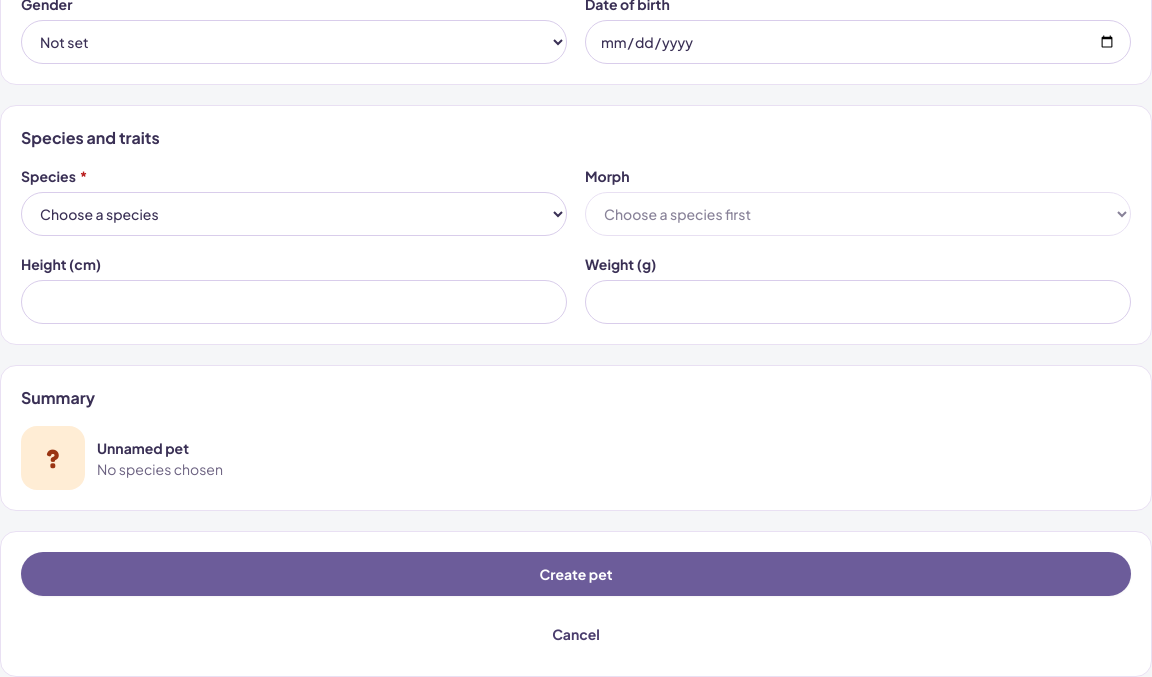
PetCreatePage › validates before sending
(page scrolled)
Click the button "Create pet" at (576, 574), box [21, 552, 1131, 596]
(page scrolled)
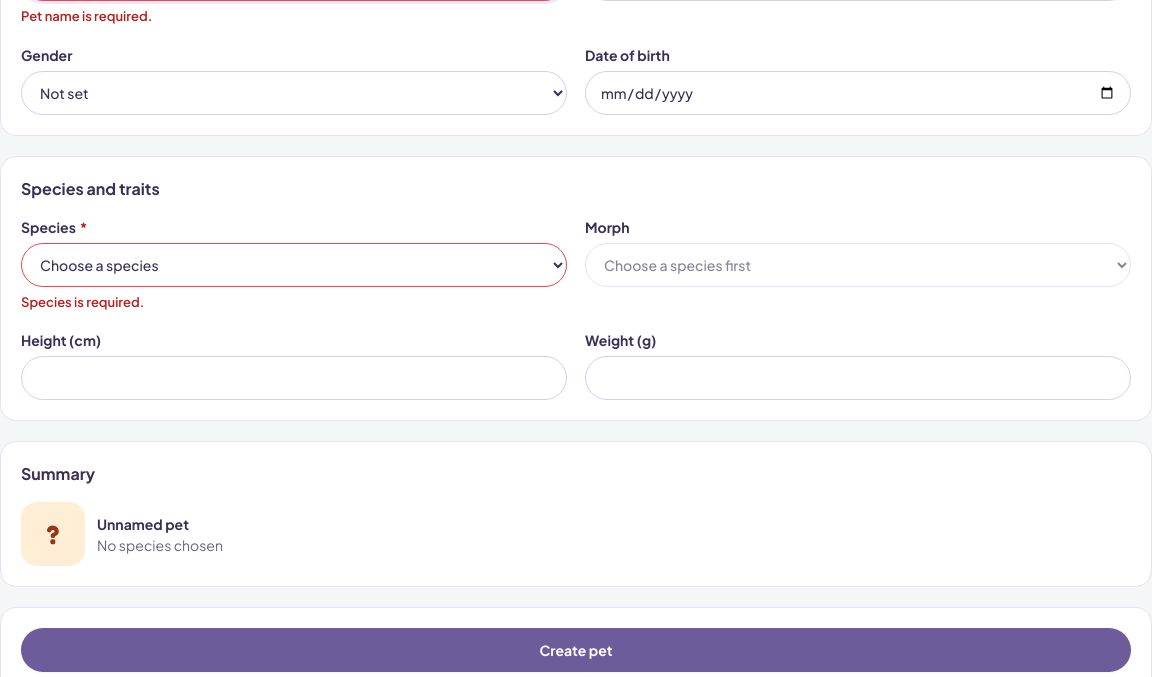
expect the text "Pet name is required." is shown: met, box [21, 8, 152, 24]
expect the text "Species is required." is shown: met, box [21, 294, 144, 310]
